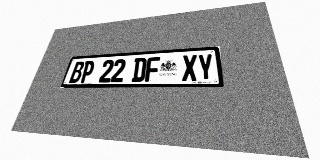2: (98, 59, 115, 82), (110, 59, 126, 82)
B: (69, 61, 85, 83)
D: (131, 57, 147, 82)
F: (145, 57, 160, 82)
P: (79, 61, 96, 83)
X: (182, 55, 197, 81)
Y: (197, 54, 214, 81)
